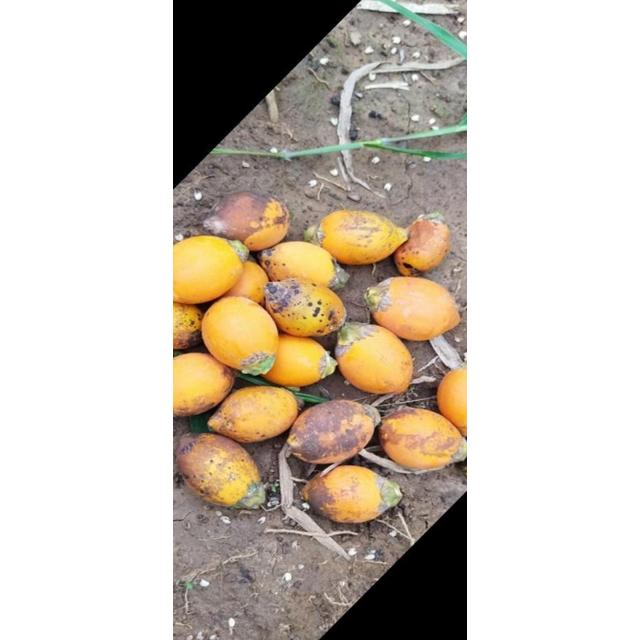good: (176, 432, 266, 508), (200, 296, 280, 374), (365, 277, 461, 341), (301, 465, 403, 523), (287, 400, 379, 464), (335, 322, 413, 394), (378, 408, 466, 469), (202, 190, 290, 250), (208, 386, 300, 442), (314, 210, 408, 264), (263, 278, 347, 338), (258, 334, 336, 388), (173, 352, 235, 418), (256, 242, 344, 288), (394, 215, 451, 275), (220, 262, 268, 306), (436, 367, 466, 437), (173, 299, 204, 351), (332, 399, 378, 431), (184, 476, 206, 502), (202, 214, 228, 236), (178, 432, 200, 456), (173, 290, 205, 306), (256, 252, 274, 278), (222, 364, 238, 384), (174, 284, 184, 306), (198, 300, 216, 312), (174, 232, 186, 242), (288, 208, 294, 220)
